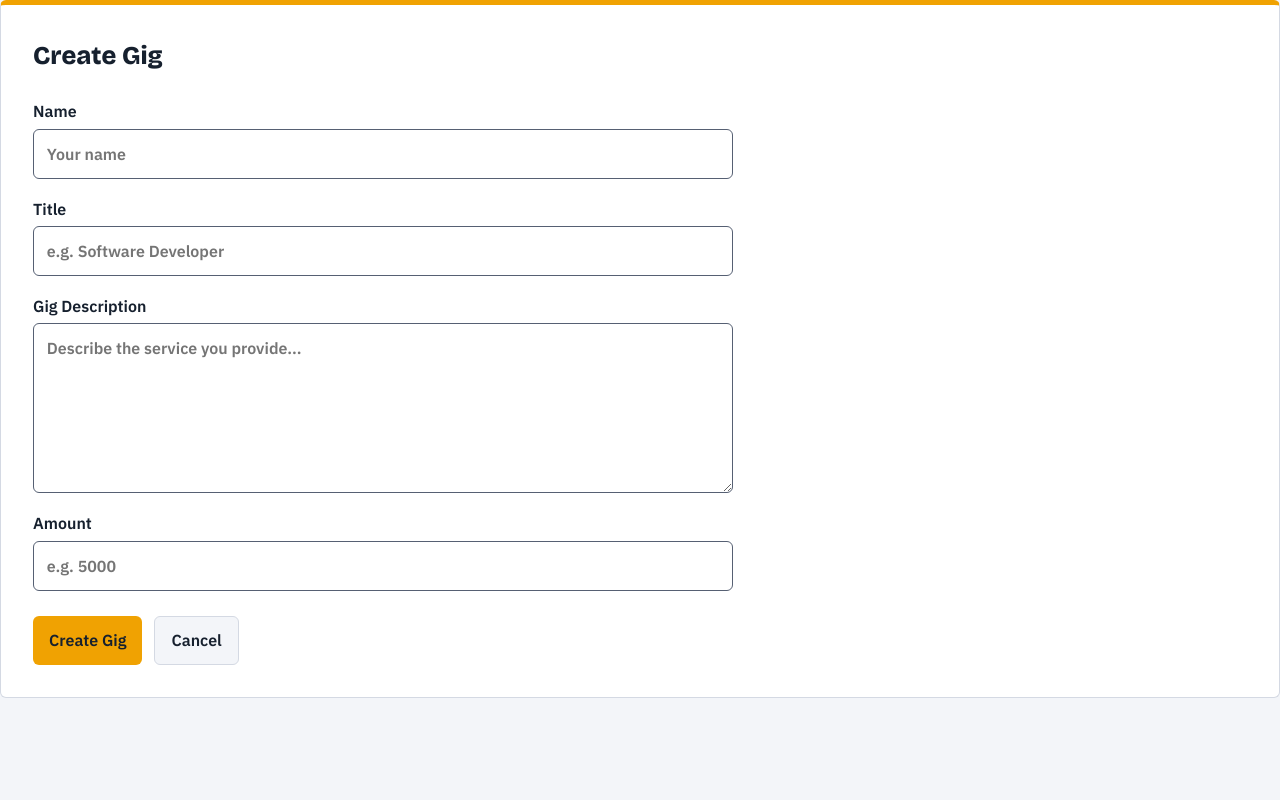
Test: GigForm › shows an error when the form is empty
Click the button "Create Gig": point(88, 640) [33,616,142,664]
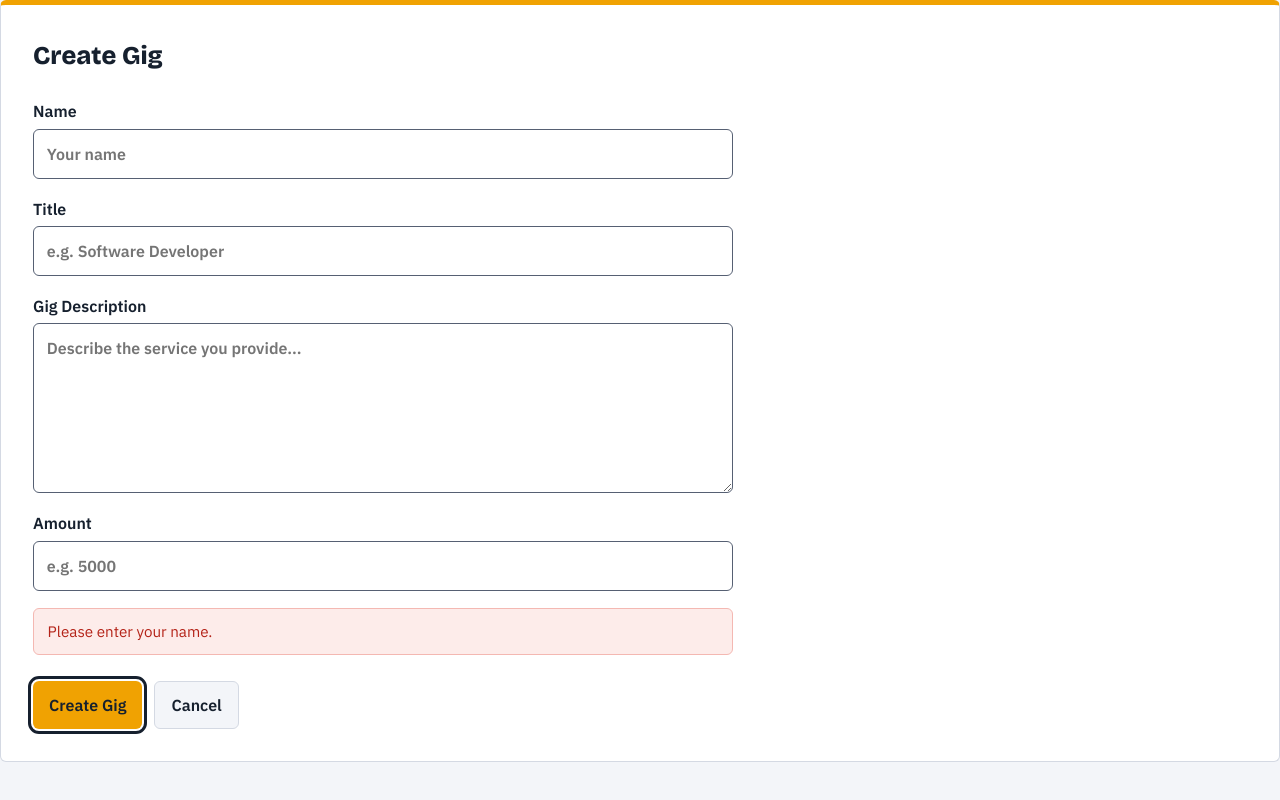
Result: the message reads "Please enter your name." at [48,621,212,641]
